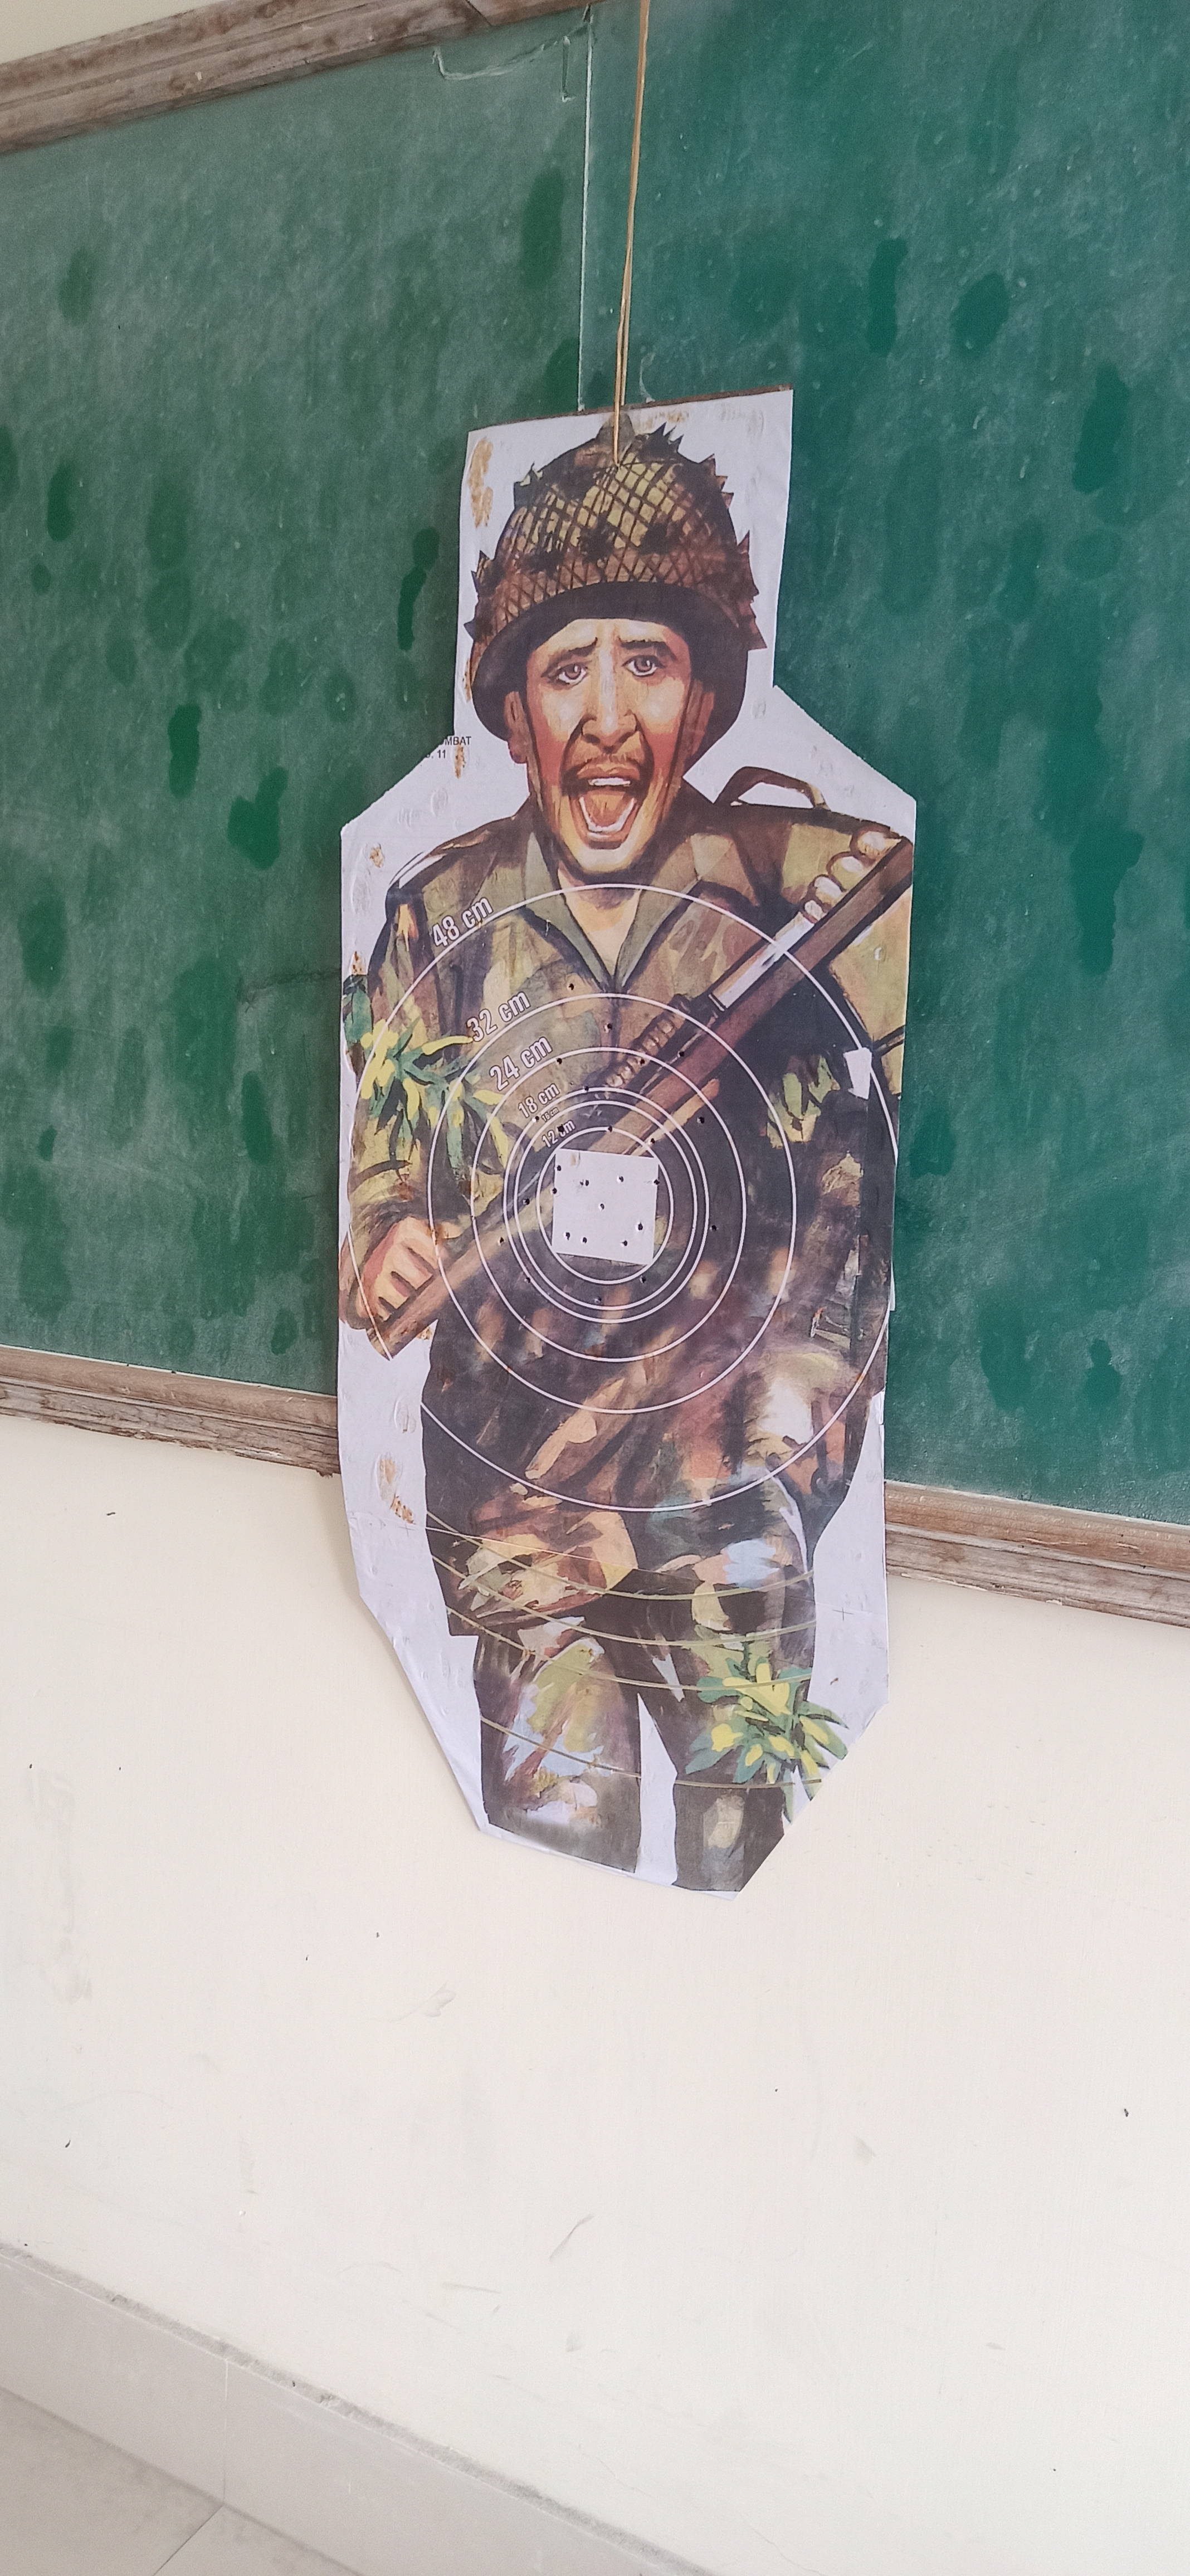bullet hit: (602, 1020, 618, 1033), (564, 977, 579, 991), (707, 1222, 720, 1235), (674, 1048, 687, 1061), (523, 1273, 534, 1286), (616, 1173, 628, 1184), (562, 1230, 574, 1242), (607, 1124, 616, 1135), (519, 1196, 531, 1206), (639, 1273, 649, 1285), (557, 1122, 565, 1135), (556, 1056, 565, 1066), (636, 1222, 646, 1232), (549, 1186, 559, 1196), (593, 1295, 603, 1304), (638, 1056, 646, 1068), (649, 1135, 657, 1147), (582, 1084, 592, 1092), (699, 1115, 707, 1125), (554, 1165, 564, 1173), (620, 1239, 630, 1247), (496, 1237, 506, 1245), (534, 1114, 541, 1125), (653, 1178, 661, 1186), (580, 1235, 588, 1244), (582, 1180, 592, 1186), (600, 1201, 607, 1211)
white box: (549, 1147, 662, 1267)
